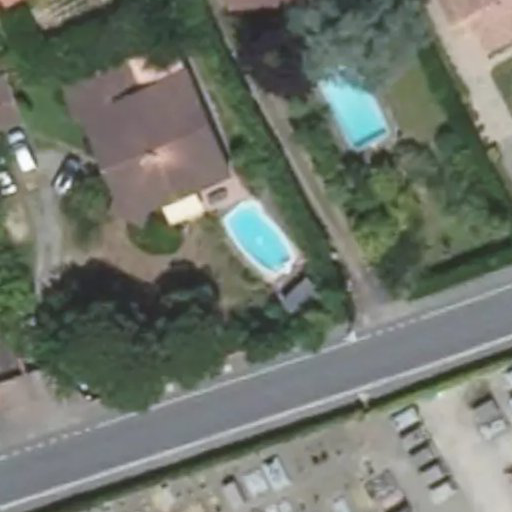pool: (218, 221, 293, 263)
